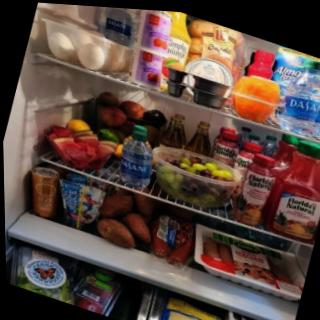Drinks: (274, 51, 320, 140), (113, 126, 162, 190), (95, 6, 141, 46)
Egg: (32, 18, 77, 64), (65, 30, 110, 76)
Juice: (262, 130, 320, 245), (230, 148, 283, 231), (209, 126, 241, 165), (231, 137, 261, 175)
fruit: (72, 263, 118, 315), (164, 149, 230, 185)
